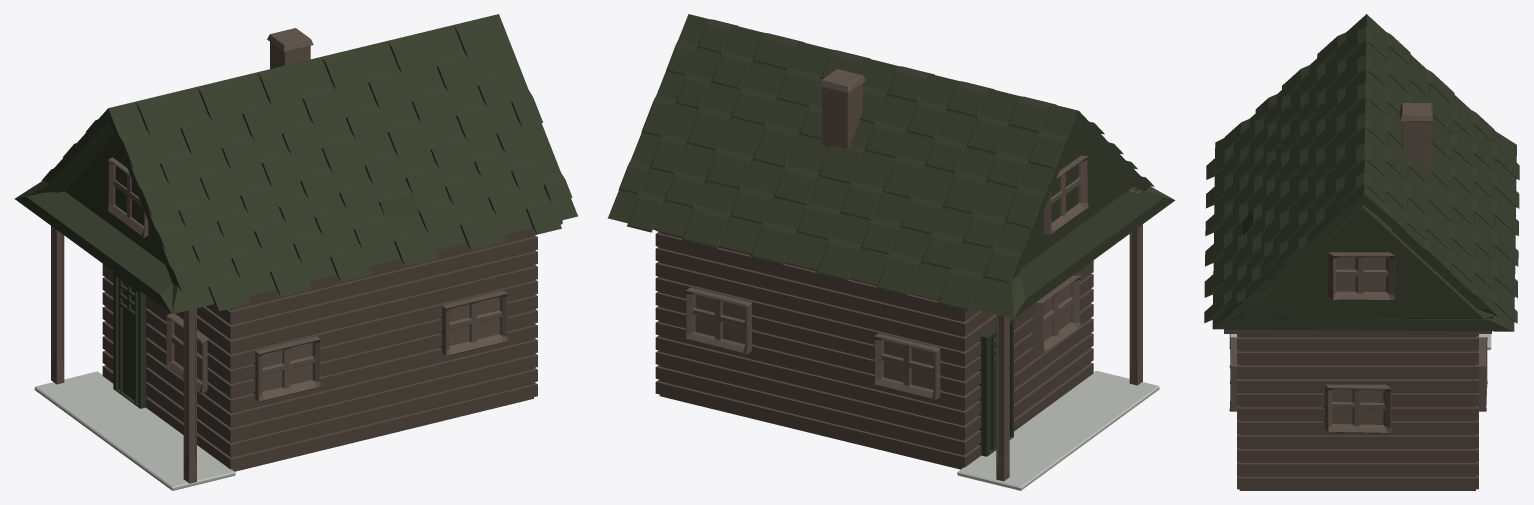
File: house_christmas.fbx
3 renders of one model, left to right at view 1: azimuth 30°, elevation 25°; view 2: azimuth 150°, elevation 25°; view 3: azimuth 270°, elevation 25°, orthographic. The views are drawn at different scales.
Parts seen in each view (by area): view 1: pCube2, pCube1, pasted__pCube7, pasted__pasted__pCube4 (×2), pasted__pasted__pasted__pCube4 (×2), pCube4, pasted__pasted__pCube6, pasted__pCube6, pCube5; view 2: pCube2, pCube1, pasted__pCube7, pasted__pasted__pasted__pCube4 (×2), pasted__pasted__pasted__pasted__pCube4, pCube5, pasted__pasted__pCube4, pCube4, pasted__pCube6, pasted__pasted__pCube6; view 3: pCube2, pCube1, pCube3, pasted__pasted__pasted__pCube4 (×3), pasted__pasted__pasted__pasted__pCube4, pCube5.
Boxes of the visible parts, bbox=[...] form: pCube2: bbox=[14, 14, 577, 314]; pCube1: bbox=[102, 220, 562, 471]; pasted__pCube7: bbox=[34, 371, 235, 490]; pasted__pasted__pCube4 (×2): bbox=[166, 313, 320, 402]; pasted__pasted__pasted__pCube4 (×2): bbox=[108, 157, 507, 356]; pCube4: bbox=[113, 271, 148, 408]; pasted__pasted__pCube6: bbox=[183, 308, 196, 483]; pasted__pCube6: bbox=[51, 226, 64, 384]; pCube5: bbox=[267, 28, 313, 68]; pCube2: bbox=[607, 14, 1175, 318]; pCube1: bbox=[655, 230, 1093, 469]; pasted__pCube7: bbox=[957, 370, 1159, 490]; pasted__pasted__pasted__pCube4 (×2): bbox=[685, 155, 1088, 354]; pasted__pasted__pasted__pasted__pCube4: bbox=[874, 333, 941, 399]; pCube5: bbox=[819, 69, 865, 148]; pasted__pasted__pCube4: bbox=[1031, 275, 1081, 354]; pCube4: bbox=[979, 318, 1013, 456]; pasted__pCube6: bbox=[996, 314, 1009, 481]; pasted__pasted__pCube6: bbox=[1129, 187, 1142, 385]; pCube2: bbox=[1204, 14, 1519, 331]; pCube1: bbox=[1224, 329, 1491, 490]; pCube3: bbox=[1239, 205, 1493, 319]; pasted__pasted__pasted__pCube4 (×3): bbox=[1229, 337, 1487, 433]; pasted__pasted__pasted__pasted__pCube4: bbox=[1328, 252, 1394, 300]; pCube5: bbox=[1400, 103, 1432, 175].
Bounding box in the file's own units: 18.48 × 14.11 × 12.9.
